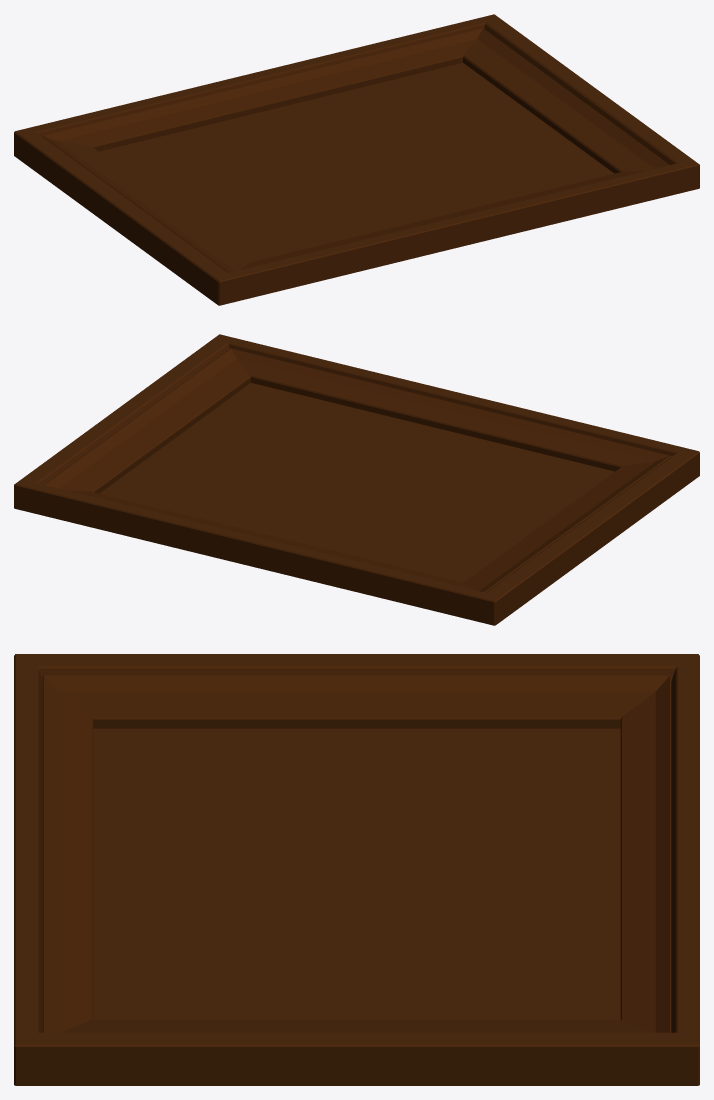
File: FRAME_WALL1.fbx
3 views of the same model, one above another, from view 1: azimuth 30°, elevation 25°; view 2: azimuth 150°, elevation 25°; view 3: azimuth 270°, elevation 25° (orthographic). The views are drawn at different scales.
Visible parts, largest first — view 1: Plane.004; view 2: Plane.004; view 3: Plane.004.
Boxes of the visible parts, x1,y1,x2,y2 form: Plane.004: (14, 14, 699, 305); Plane.004: (14, 334, 699, 625); Plane.004: (14, 654, 699, 1085).
Size of the model in its own units: 1157 by 55.88 by 855.
